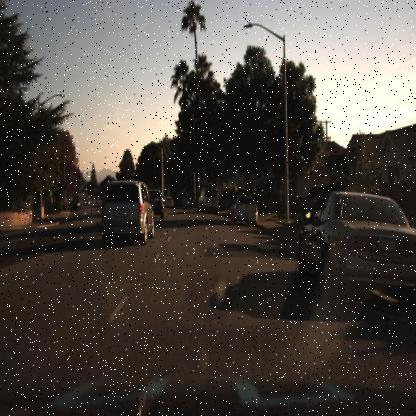car: (295, 190, 415, 306), (94, 175, 158, 246), (298, 172, 332, 221), (231, 190, 259, 224), (196, 184, 221, 216), (69, 199, 80, 214), (81, 195, 91, 210)
